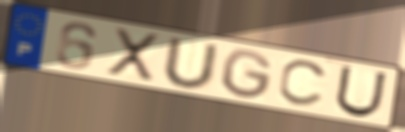6: (53, 21, 98, 71)
C: (275, 60, 332, 110)
G: (220, 48, 276, 102)
U: (161, 36, 222, 92), (332, 64, 390, 119)
X: (103, 26, 162, 86)
